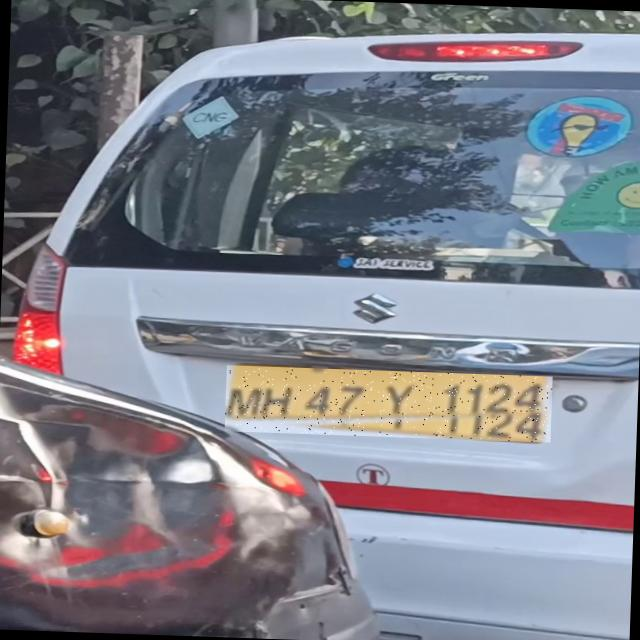Plate: (226, 366, 554, 443)
